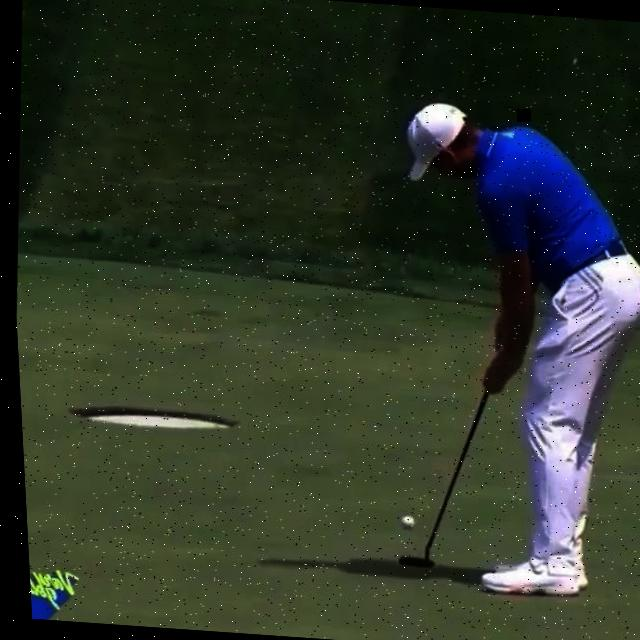ClubHead: (390, 554, 430, 570)
GolfBall: (392, 514, 410, 531)
